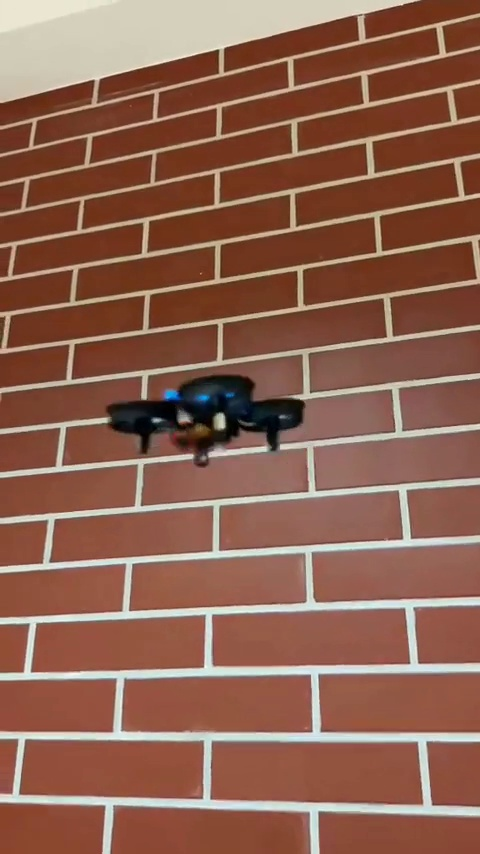drone: (104, 371, 310, 470)
